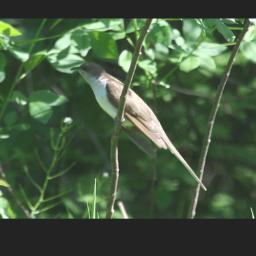Cuckoo: (71, 61, 209, 193)
